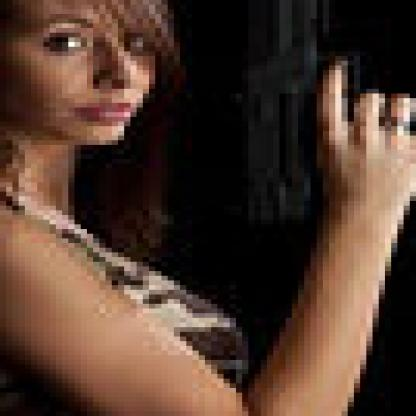gun: (230, 0, 411, 239)
